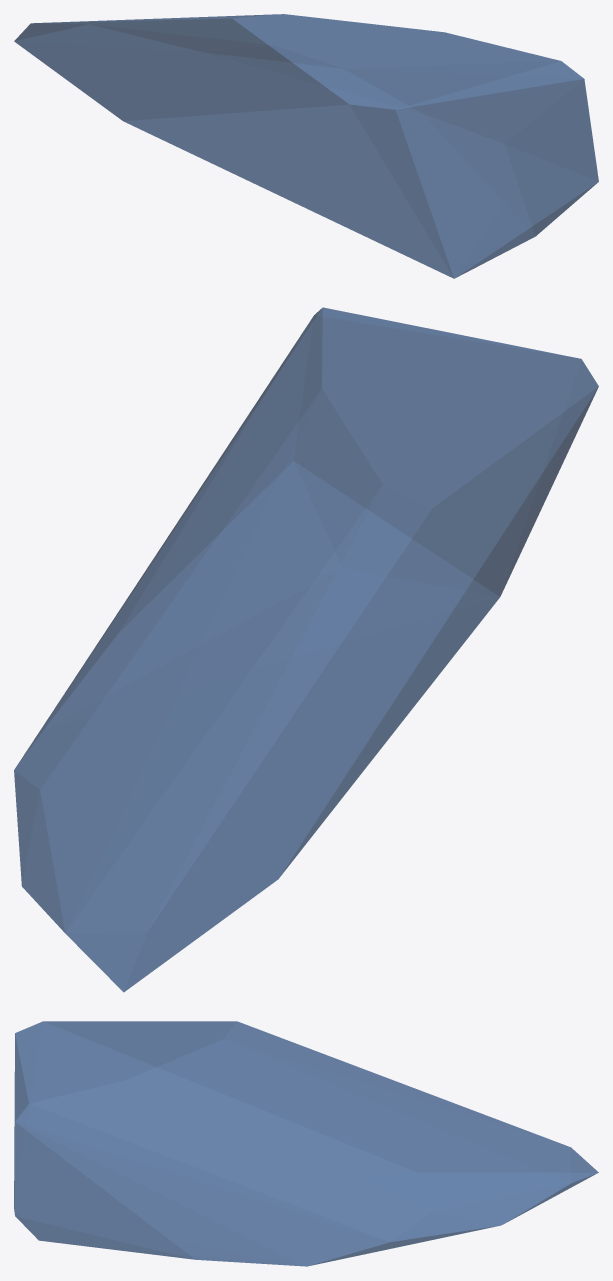
3 renders of one model, top to bottom at view 1: azimuth 30°, elevation 25°; view 2: azimuth 150°, elevation 25°; view 3: azimuth 270°, elevation 25°, orthographic. The views are drawn at different scales.
Parts seen in each view (by area): view 1: Shape_IndexedFaceSet.070_Shape_IndexedFaceSet.499; view 2: Shape_IndexedFaceSet.070_Shape_IndexedFaceSet.499; view 3: Shape_IndexedFaceSet.070_Shape_IndexedFaceSet.499.
Boxes of the visible parts, x1=… form: Shape_IndexedFaceSet.070_Shape_IndexedFaceSet.499: x1=14, y1=14, x2=598, y2=278; Shape_IndexedFaceSet.070_Shape_IndexedFaceSet.499: x1=14, y1=307, x2=598, y2=992; Shape_IndexedFaceSet.070_Shape_IndexedFaceSet.499: x1=14, y1=1021, x2=598, y2=1266.
Bounding box in the file's own units: 0.0721 × 0.051 × 0.1784.
